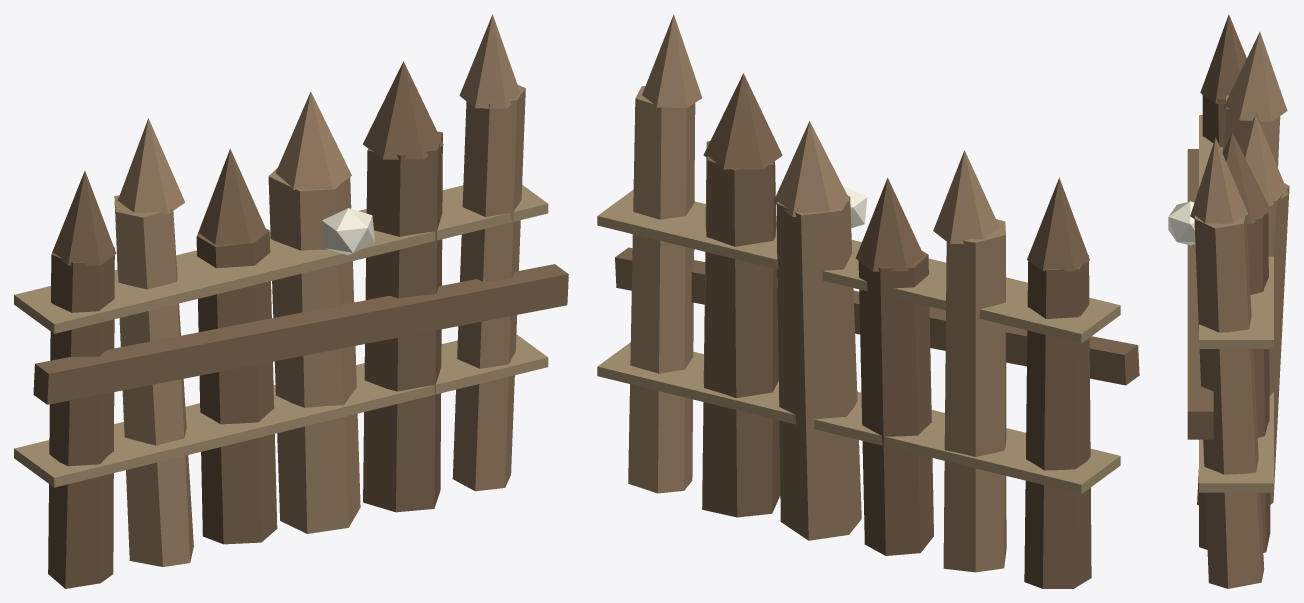
File: orc_palisade.glb
3 renders of one model, left to right at view 1: azimuth 30°, elevation 25°; view 2: azimuth 150°, elevation 25°; view 3: azimuth 270°, elevation 25°, orthographic. The views are drawn at different scales.
Visible parts, largest first — view 1: orc_palisade; view 2: orc_palisade; view 3: orc_palisade.
Boxes of the visible parts, bbox=[...] form: orc_palisade: bbox=[14, 14, 568, 588]; orc_palisade: bbox=[597, 14, 1139, 588]; orc_palisade: bbox=[1168, 14, 1289, 588].
Bounding box in the file's own units: 3.91 × 3.39 × 0.8415.
